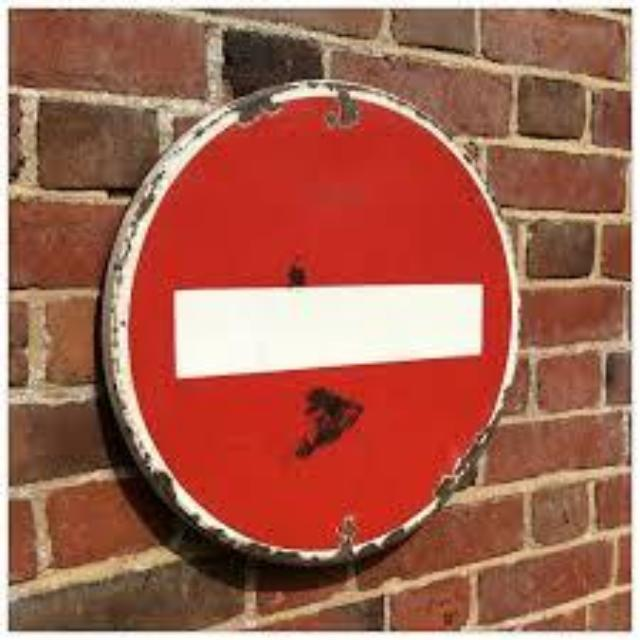B2: (91, 74, 526, 568)
